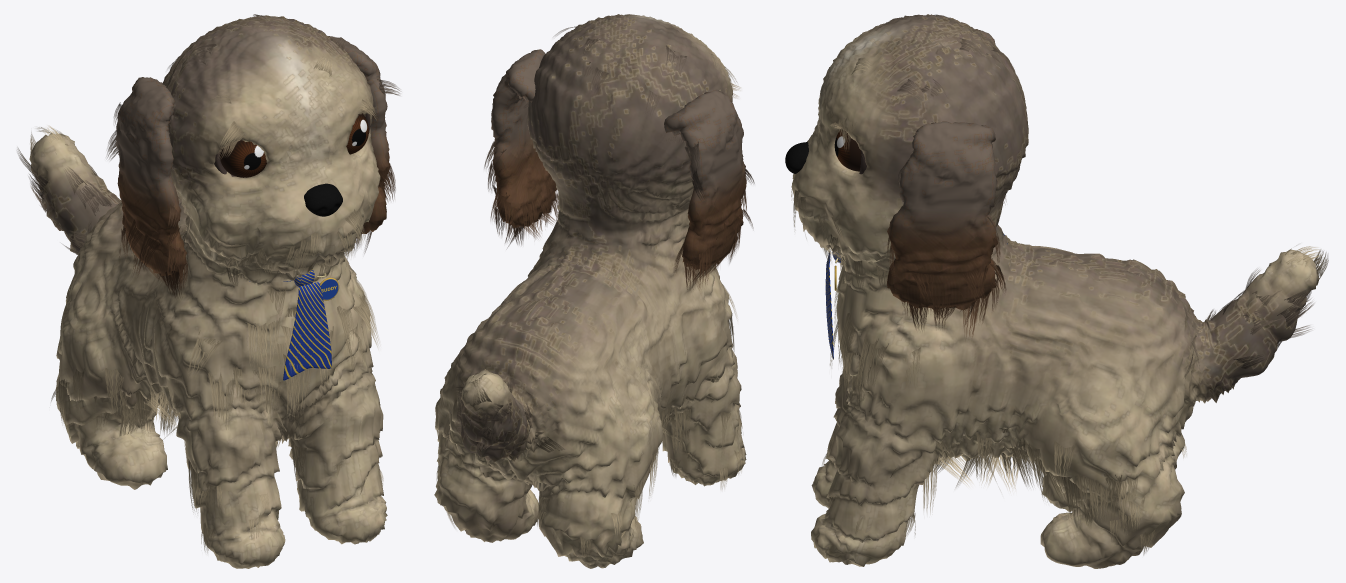
Rendered from npc_buddy_review.glb.
3 views of the same model, side by side, from view 1: azimuth 30°, elevation 25°; view 2: azimuth 150°, elevation 25°; view 3: azimuth 270°, elevation 25° (orthographic). The views are drawn at different scales.
Parts seen in each view (by area): view 1: Buddy_Body, Buddy_FurCards, Buddy_Ear0, Buddy_Tie, Buddy_Ear1, Buddy_Eye0, Buddy_Nose, Buddy_Eye1; view 2: Buddy_Body, Buddy_FurCards, Buddy_Ear0, Buddy_Ear1; view 3: Buddy_Body, Buddy_FurCards, Buddy_Ear1, Buddy_Eye1.
Part boxes in pixels (box(x1,y1,x2,y2)): Buddy_Body: box(29, 15, 387, 568); Buddy_FurCards: box(17, 14, 400, 552); Buddy_Ear0: box(116, 77, 186, 276); Buddy_Tie: box(283, 282, 331, 380); Buddy_Ear1: box(328, 36, 389, 233); Buddy_Eye0: box(220, 140, 266, 177); Buddy_Nose: box(304, 183, 342, 216); Buddy_Eye1: box(346, 113, 368, 154); Buddy_Body: box(434, 14, 746, 568); Buddy_FurCards: box(436, 14, 754, 557); Buddy_Ear0: box(664, 90, 746, 271); Buddy_Ear1: box(491, 49, 556, 227); Buddy_Body: box(791, 14, 1319, 568); Buddy_FurCards: box(791, 14, 1328, 555); Buddy_Ear1: box(887, 121, 997, 311); Buddy_Eye1: box(834, 129, 861, 171).
Size of the model in its own units: 0.2986 by 0.5622 by 0.5431.
Materials: 10 (8 with a texture image).
